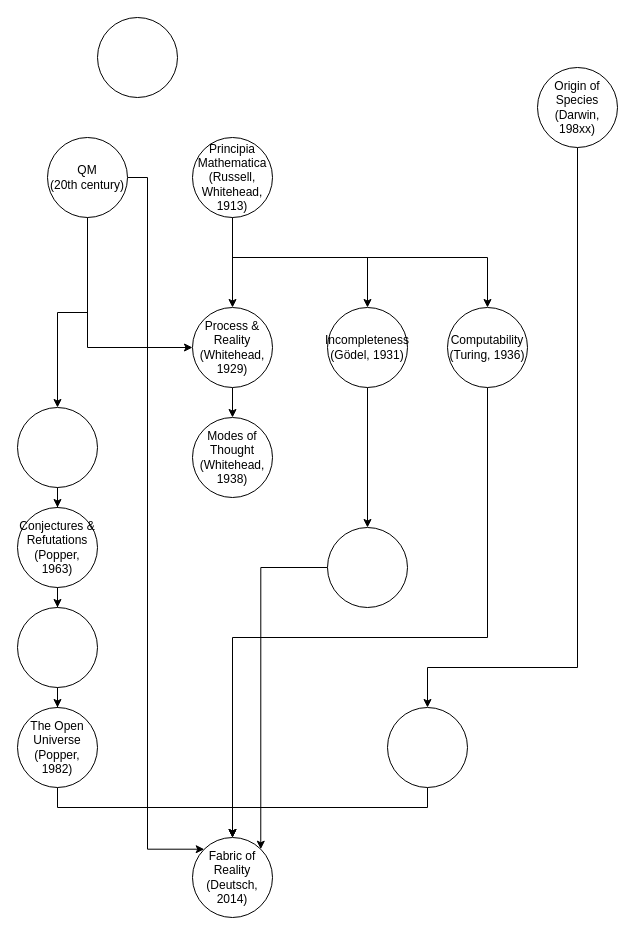
Some shapes in this 635 by 935 pixel diagram are drawn without their labels. Each missing label, with the box of its shape:
GEB (Hofstadter, 19xx): (326, 526, 408, 608)
Logic of Sci. Discovery (Popper, 1959): (16, 406, 98, 488)
Obj. Knowledge: An Evo. Approach (Popper, 1972): (16, 606, 98, 688)
Plato: (96, 16, 178, 98)
Selfish Gene (Dawkins, 19xx): (386, 706, 468, 788)
